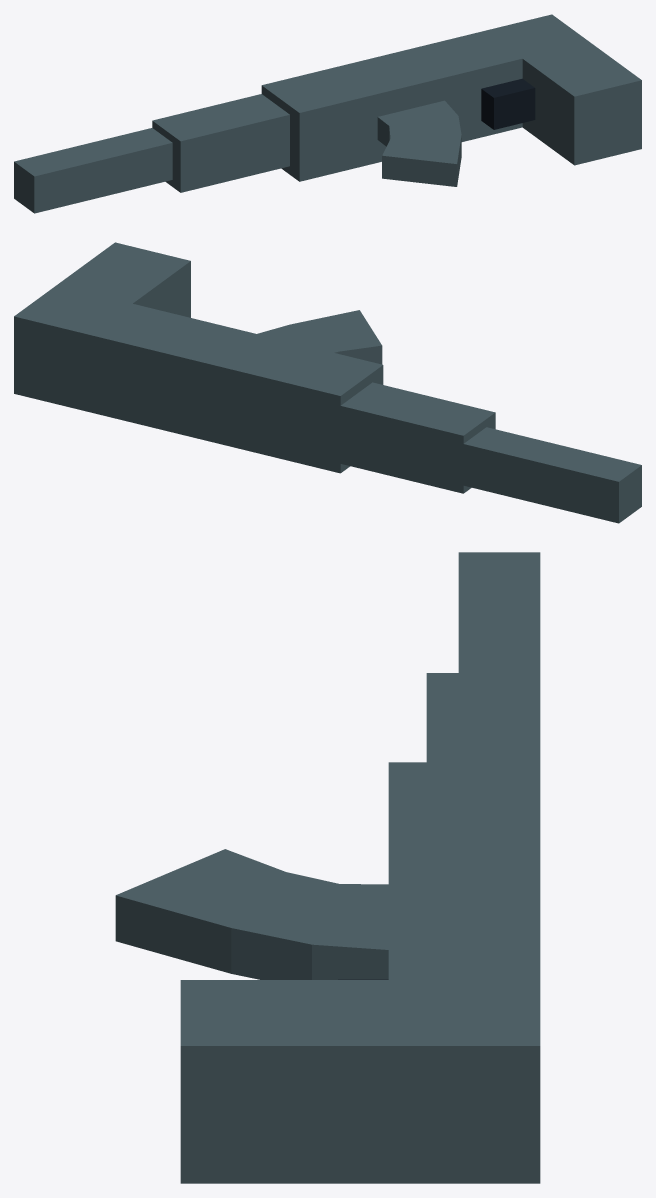
The model's file is (Msh)Rifle.fbx.
The picture shows the model from 3 angles, top to bottom: view 1: azimuth 30°, elevation 25°; view 2: azimuth 150°, elevation 25°; view 3: azimuth 270°, elevation 25°; orthographic projection. The views are drawn at different scales.
Visible parts, largest first — view 1: rifle; view 2: rifle; view 3: rifle.
Part boxes in pixels (x1,y1,x2,y2): rifle: (14, 14, 641, 213); rifle: (14, 242, 641, 523); rifle: (115, 552, 540, 1183).
Size of the model in its own units: 1636 by 200 by 560.
